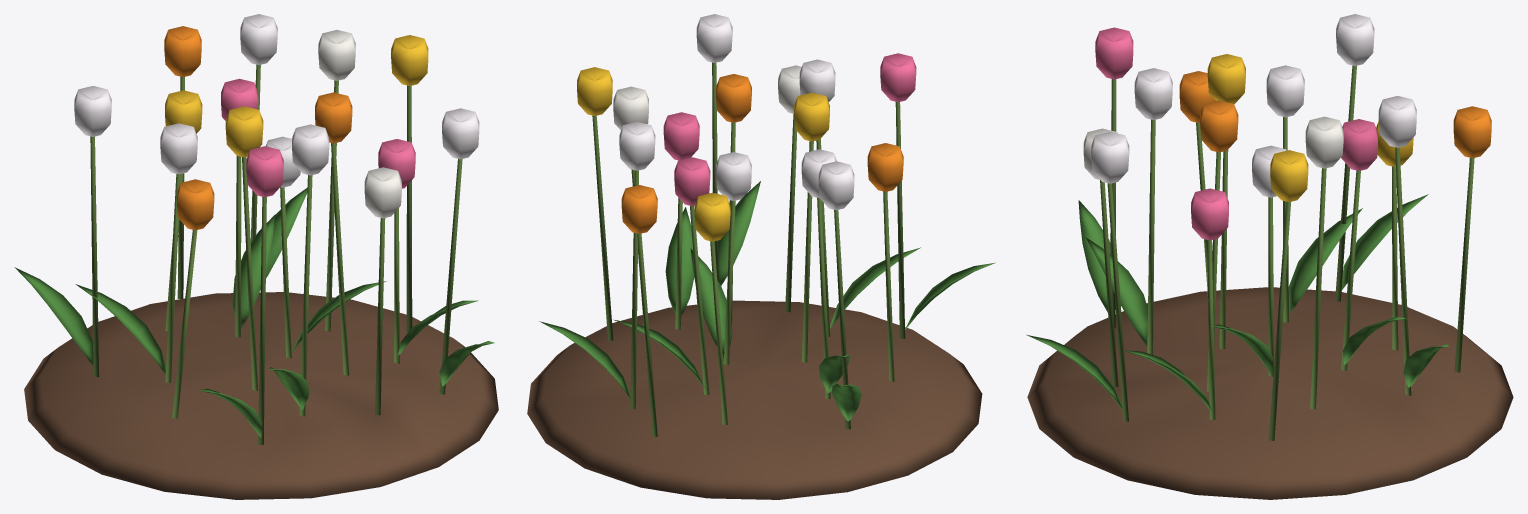
File: tulips.glb
The picture shows the model from 3 angles, left to right: view 1: azimuth 30°, elevation 25°; view 2: azimuth 150°, elevation 25°; view 3: azimuth 270°, elevation 25°; orthographic projection. The views are drawn at different scales.
Parts seen in each view (by area): view 1: tulips; view 2: tulips; view 3: tulips.
Part boxes in pixels (bbox=[...]): tulips: bbox=[14, 14, 498, 499]; tulips: bbox=[527, 14, 995, 499]; tulips: bbox=[1026, 14, 1513, 499].
Bounding box in the file's own units: 0.84 × 0.6218 × 0.8433.
